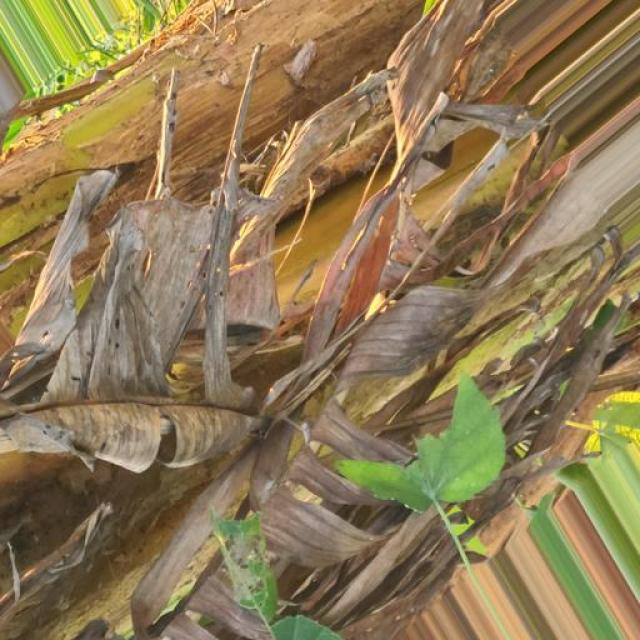Bract_mosaic_virus: (1, 6, 640, 640)
